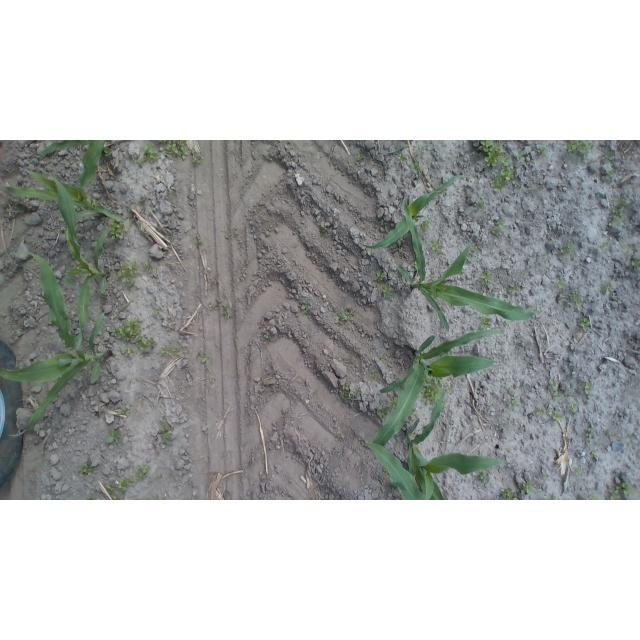Maize: (3, 249, 110, 437), (396, 196, 536, 331), (372, 328, 505, 449), (5, 140, 125, 256), (41, 168, 115, 351), (403, 395, 505, 500), (361, 175, 471, 250), (353, 442, 427, 500)
Weeds: (109, 316, 156, 352), (480, 140, 510, 168), (491, 165, 517, 192), (116, 260, 141, 286), (157, 140, 188, 160), (608, 197, 628, 228), (423, 375, 443, 405), (160, 415, 177, 446), (564, 140, 593, 158), (376, 396, 396, 421), (608, 483, 632, 500), (141, 144, 160, 165), (109, 219, 126, 242), (340, 387, 363, 402), (103, 484, 122, 501), (135, 464, 151, 483), (548, 379, 564, 397), (376, 283, 395, 298), (160, 347, 185, 358), (105, 429, 121, 445), (560, 240, 576, 256), (340, 307, 353, 325), (520, 481, 536, 495), (80, 463, 97, 476), (492, 220, 505, 237), (502, 488, 519, 500), (578, 317, 591, 332), (431, 239, 444, 254), (480, 268, 492, 284), (117, 478, 131, 491), (508, 395, 521, 409), (569, 291, 581, 306), (420, 219, 432, 233), (471, 200, 486, 211), (508, 282, 521, 294), (481, 316, 492, 329), (372, 271, 385, 282), (480, 470, 489, 485), (411, 160, 421, 173), (300, 303, 311, 314), (397, 152, 407, 164), (631, 258, 640, 271), (144, 260, 153, 273), (320, 222, 328, 236), (104, 143, 112, 157), (553, 279, 564, 289), (602, 283, 612, 293), (516, 151, 526, 161), (586, 428, 596, 438), (553, 412, 564, 421), (568, 404, 577, 415), (390, 480, 398, 492), (606, 171, 616, 180), (604, 151, 614, 160), (120, 407, 129, 416), (125, 348, 134, 357), (192, 156, 201, 165), (536, 408, 545, 417), (152, 308, 160, 318), (91, 198, 101, 206), (474, 241, 482, 251), (585, 383, 592, 394), (264, 332, 273, 340), (87, 493, 97, 500), (412, 261, 419, 271), (472, 151, 480, 159), (196, 236, 204, 244), (383, 468, 390, 477), (418, 148, 425, 157), (624, 248, 633, 255), (590, 493, 598, 500), (575, 469, 583, 476), (357, 155, 365, 162), (131, 155, 138, 163), (61, 226, 67, 235), (392, 243, 398, 252), (155, 495, 165, 500), (445, 350, 452, 357), (200, 356, 208, 362), (224, 313, 232, 319), (148, 296, 156, 302), (446, 386, 454, 392), (540, 148, 549, 153), (381, 219, 388, 225), (373, 371, 380, 377), (441, 406, 448, 412), (130, 218, 136, 224), (592, 450, 597, 457), (336, 436, 343, 441), (544, 251, 549, 257), (432, 276, 437, 281), (380, 356, 385, 361), (352, 360, 357, 365), (602, 244, 608, 248), (552, 497, 556, 500)
